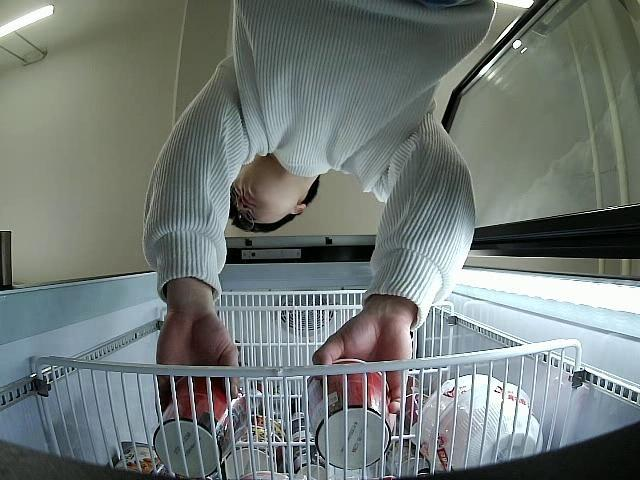02_shinRamen_S: (152, 373, 252, 480), (303, 358, 395, 470)
